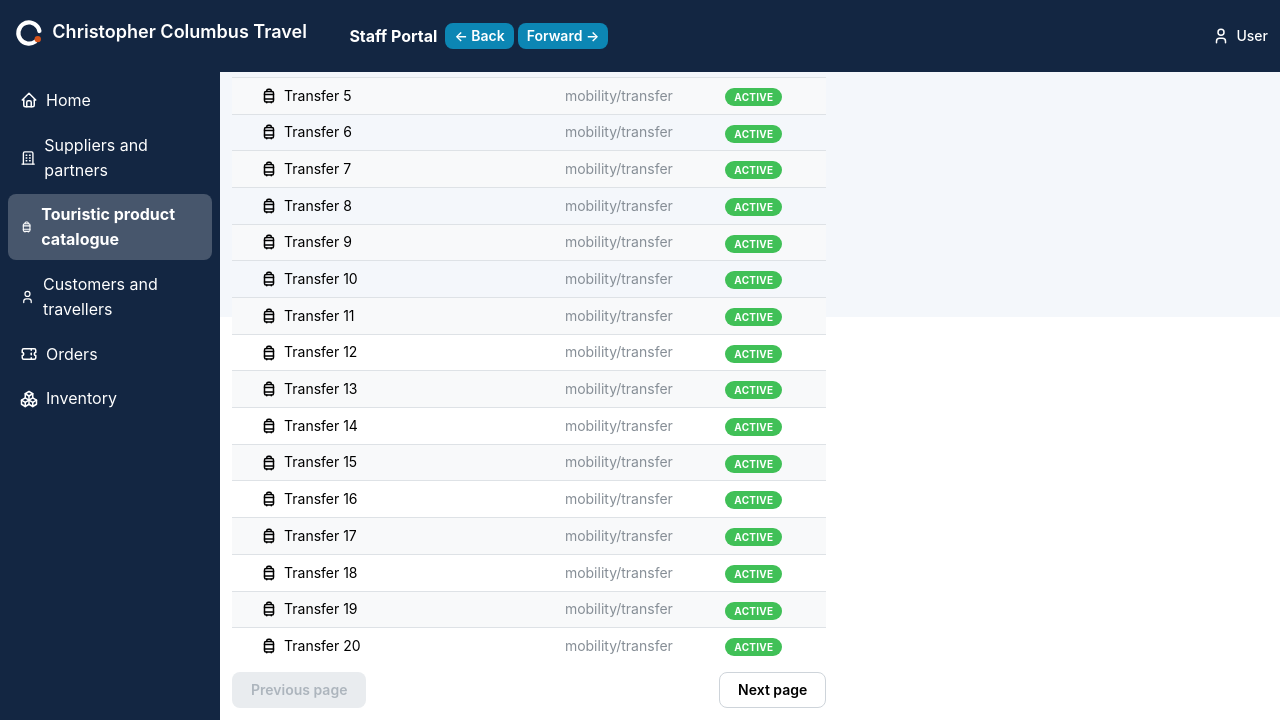
it: ProductsRoute (VIEW-S-003 tree view, issue #31 follow-up) › paginates the list instead of rendering every match at once
(page scrolled)
Expected: the text "Transfer 20" is shown, [284, 636, 361, 656]
Expected: the text "Transfer 21" is not shown
Click the button "Next page" at {"x": 773, "y": 690}, box [719, 672, 826, 708]
(page scrolled)
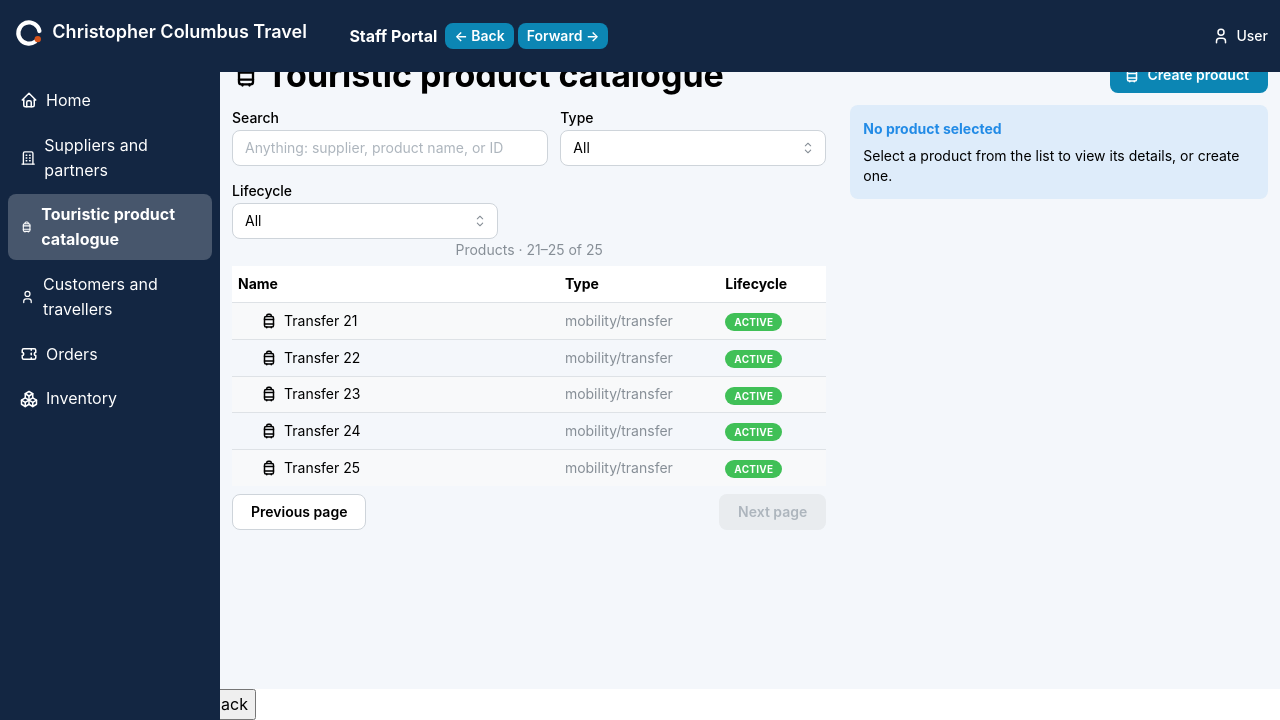
Result: the text "Transfer 21" is shown at [284, 311, 357, 331]
Result: the text "Transfer 1" is gone
Result: the button "Next page" is disabled at [719, 494, 826, 530]
